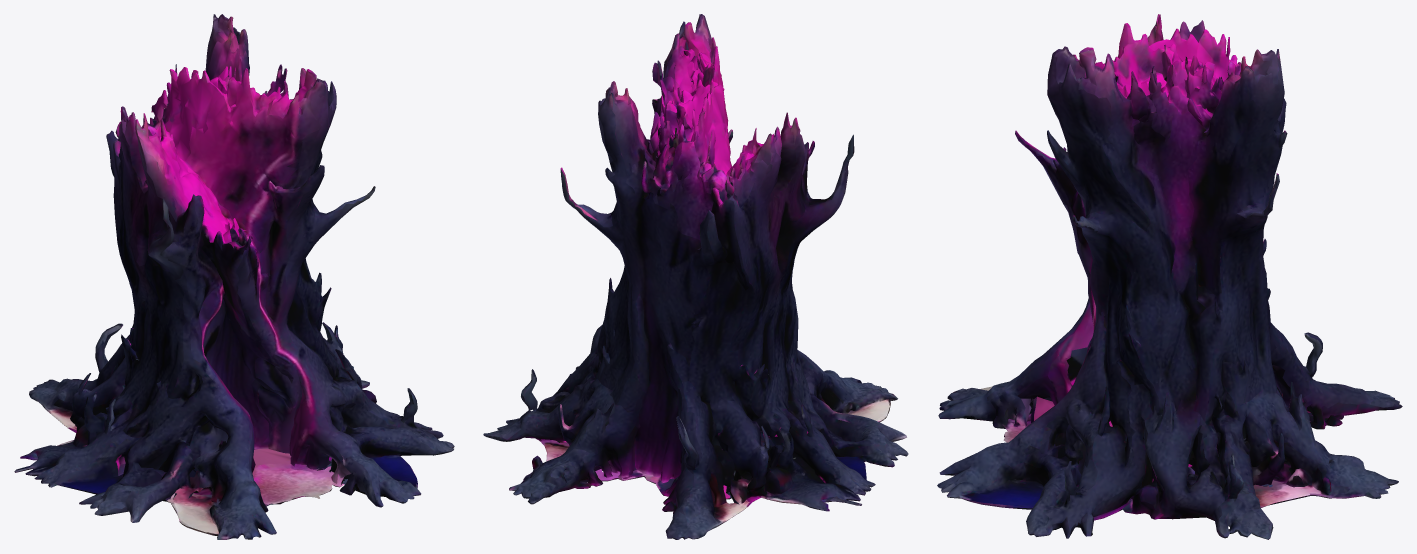
File: root-north-generated-2026-04-19T06-07-51-983Z.medium.glb
The picture shows the model from 3 angles, left to right: view 1: azimuth 30°, elevation 25°; view 2: azimuth 150°, elevation 25°; view 3: azimuth 270°, elevation 25°; orthographic projection. The views are drawn at different scales.
Visible parts, largest first — view 1: temp_mesh.ply; view 2: temp_mesh.ply; view 3: temp_mesh.ply.
Part boxes in pixels (box(x1,y1,x2,y2)): temp_mesh.ply: box(14, 14, 454, 539); temp_mesh.ply: box(483, 14, 908, 539); temp_mesh.ply: box(937, 14, 1402, 539).
Bounding box in the file's own units: 1.9 × 1.97 × 1.94.
1 material, 1 textured.
